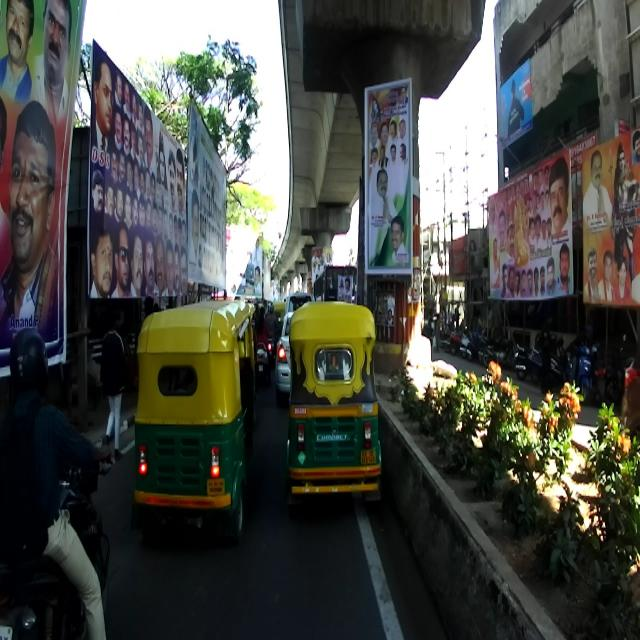autorickshaw: (129, 298, 257, 546), (282, 300, 383, 518)
motorcycle_Honda: (0, 445, 112, 639)
scooter: (528, 332, 572, 392)
